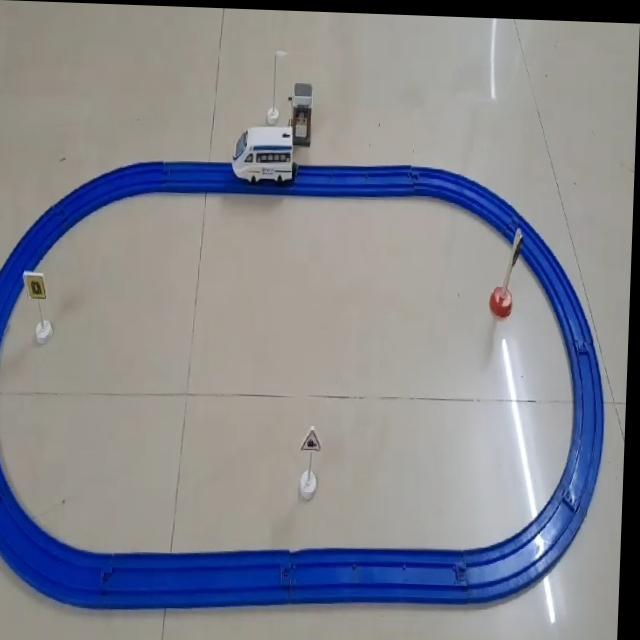bus: (231, 121, 297, 183)
